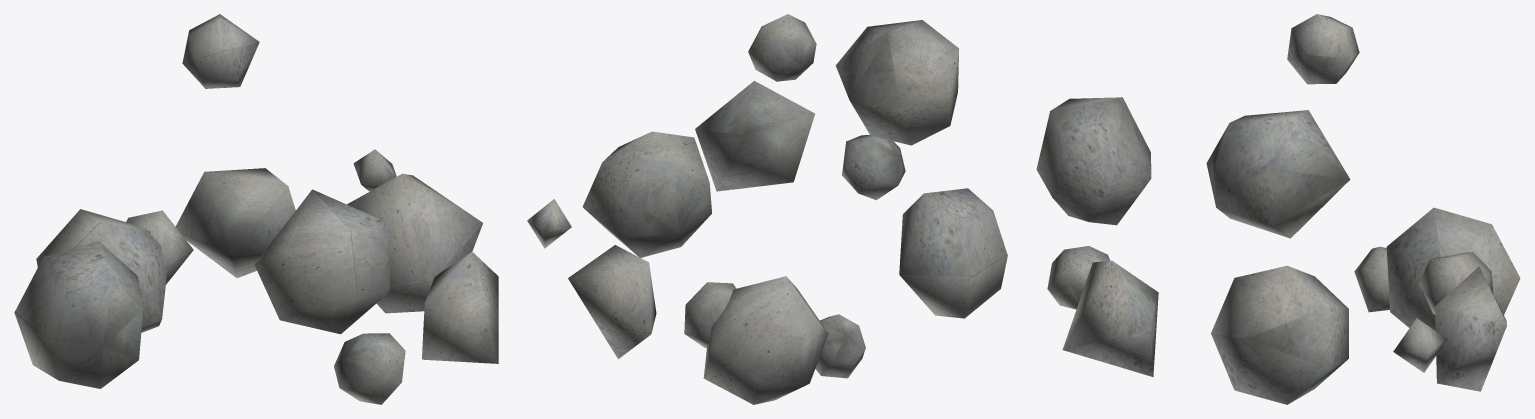
File: stone_effect8.obj
3 views of the same model, side by side, from view 1: azimuth 30°, elevation 25°; view 2: azimuth 150°, elevation 25°; view 3: azimuth 270°, elevation 25° (orthographic). The views are drawn at different scales.
Parts seen in each view (by area): view 1: Sphere011; view 2: Sphere011; view 3: Sphere011.
Boxes of the visible parts, x1,y1,x2,y2 form: Sphere011: (14,14,498,404); Sphere011: (527,14,1007,404); Sphere011: (1036,14,1520,404).
Size of the model in its own units: 169 by 134 by 168.
Materials: 1 (1 with a texture image).
